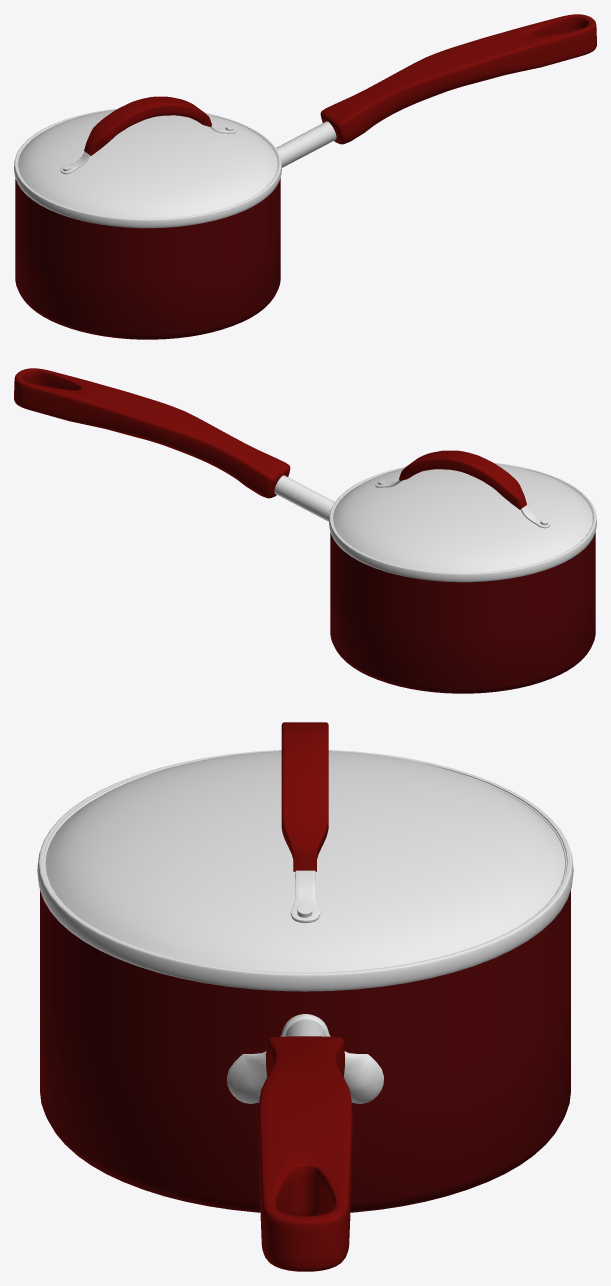
The model's file is Pans.fbx.
The picture shows the model from 3 angles, top to bottom: view 1: azimuth 30°, elevation 25°; view 2: azimuth 150°, elevation 25°; view 3: azimuth 270°, elevation 25°; orthographic projection. The views are drawn at different scales.
Parts seen in each view (by area): view 1: Pan, Cover, MainHandle, Handle; view 2: Pan, Cover, MainHandle, Handle; view 3: Pan, Cover, MainHandle, Handle.
Boxes of the visible parts, x1,y1,x2,y2 form: Pan: [15, 178, 280, 339]; Cover: [14, 108, 281, 228]; MainHandle: [276, 14, 596, 167]; Handle: [60, 96, 235, 174]; Pan: [330, 532, 595, 693]; Cover: [329, 463, 596, 582]; MainHandle: [14, 368, 334, 521]; Handle: [375, 450, 550, 528]; Pan: [40, 890, 570, 1212]; Cover: [37, 750, 573, 991]; MainHandle: [227, 1014, 383, 1271]; Handle: [281, 722, 328, 923].
Bounding box in the file's own units: 427 × 135 × 177.
